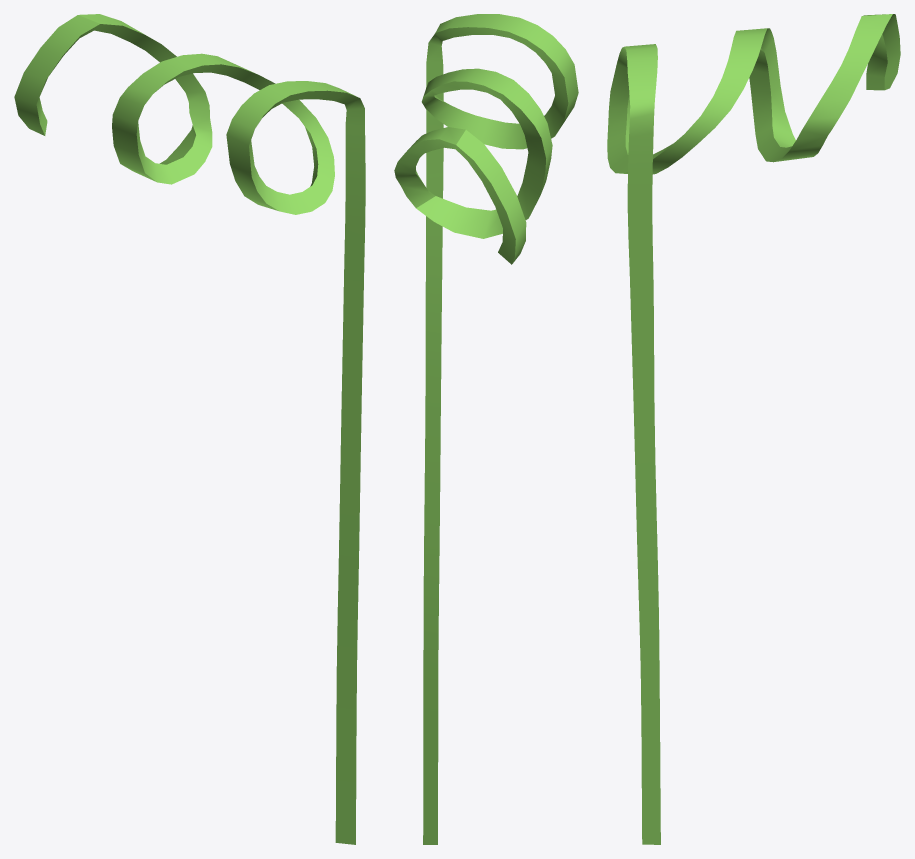
The model's file is lianas_G.fbx.
The picture shows the model from 3 angles, left to right: view 1: azimuth 30°, elevation 25°; view 2: azimuth 150°, elevation 25°; view 3: azimuth 270°, elevation 25°; orthographic projection. The views are drawn at different scales.
Visible parts, largest first — view 1: liana_G_thick; view 2: liana_G_thick; view 3: liana_G_thick.
Boxes of the visible parts, <box> form: liana_G_thick: <box>14,14,365,844</box>; liana_G_thick: <box>394,14,578,844</box>; liana_G_thick: <box>607,14,900,844</box>.
Size of the model in its own units: 32.63 by 114 by 39.74.
